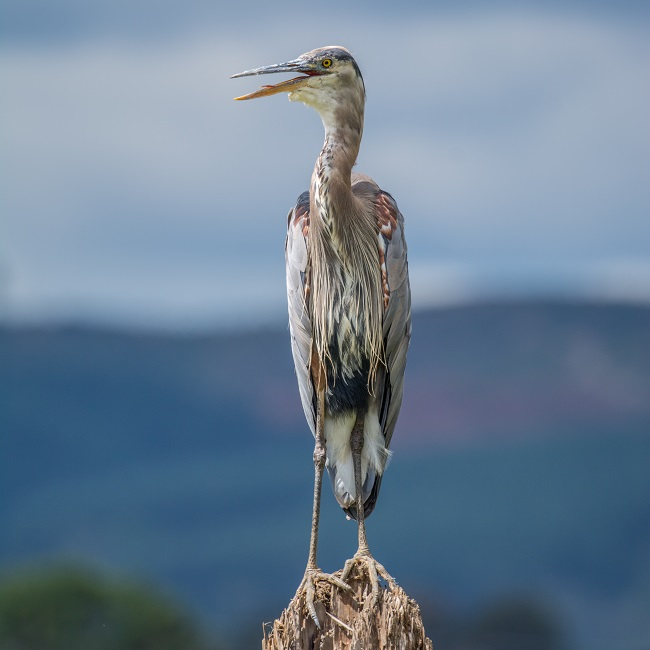heron: (219, 33, 430, 636)
